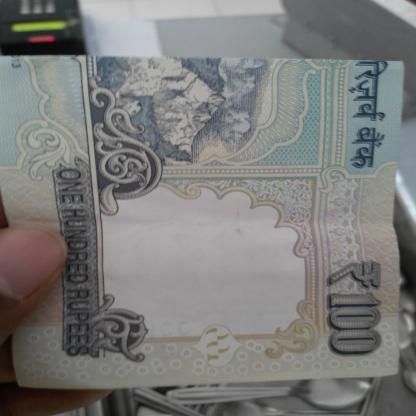Old100Back: (0, 54, 407, 391)
